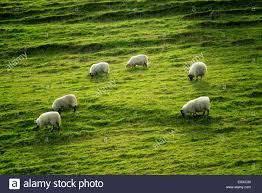sheep: (179, 95, 211, 118), (34, 111, 62, 132), (49, 94, 75, 115), (187, 61, 211, 83), (124, 53, 150, 71), (89, 62, 109, 80)
